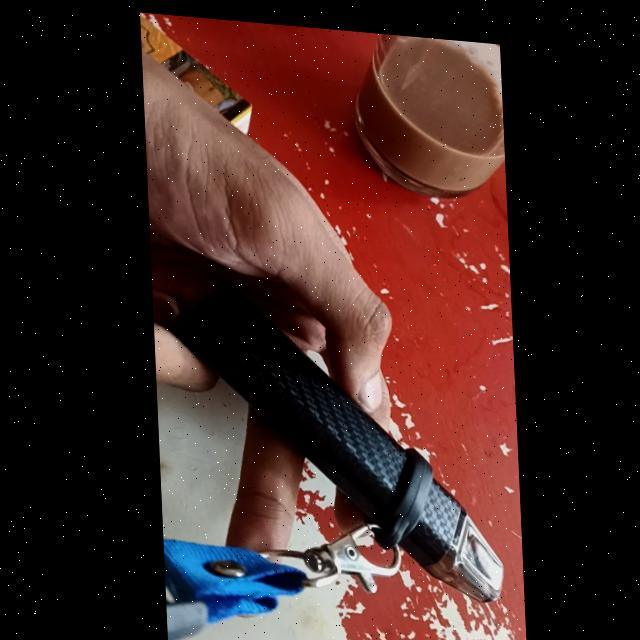vape: (166, 272, 503, 596)
